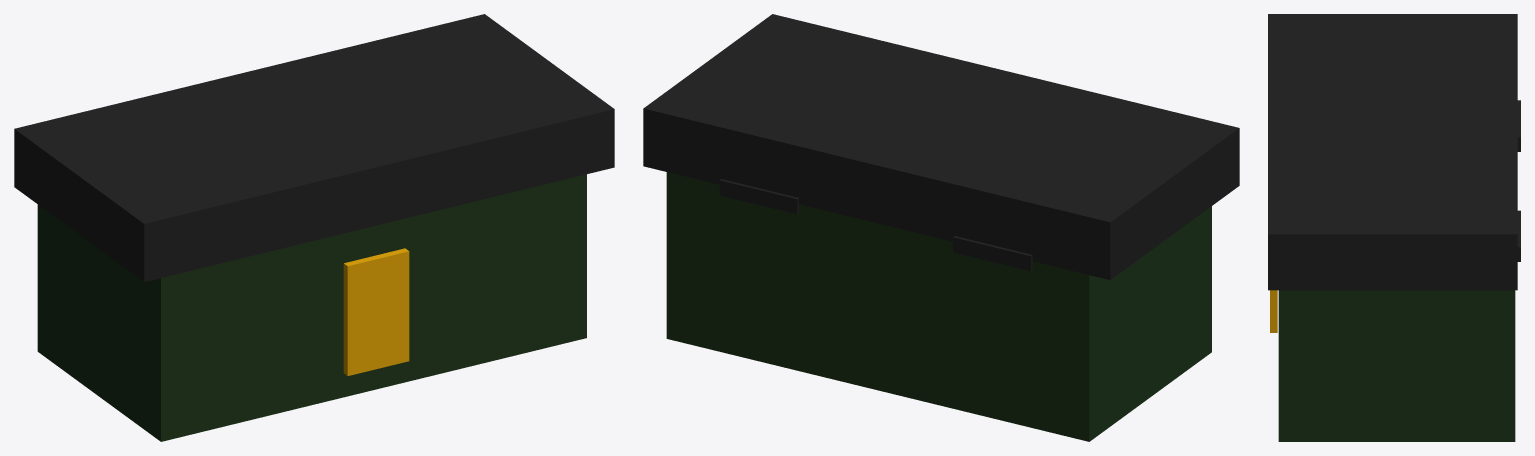
The model's file is ammo-box.glb.
3 views of the same model, side by side, from view 1: azimuth 30°, elevation 25°; view 2: azimuth 150°, elevation 25°; view 3: azimuth 270°, elevation 25° (orthographic). The views are drawn at different scales.
Visible parts, largest first — view 1: Lid, Ammo, Bullet; view 2: Lid, Ammo; view 3: Lid, Ammo, Bullet.
Boxes of the visible parts, x1,y1,x2,y2 form: Lid: (14,14,614,282); Ammo: (37,174,586,441); Bullet: (343,248,409,375); Lid: (643,14,1239,280); Ammo: (666,172,1211,441); Lid: (1268,14,1520,290); Ammo: (1278,290,1515,441); Bullet: (1270,290,1277,332).
Bounding box in the file's own units: 0.6602 × 0.305 × 0.3203.
